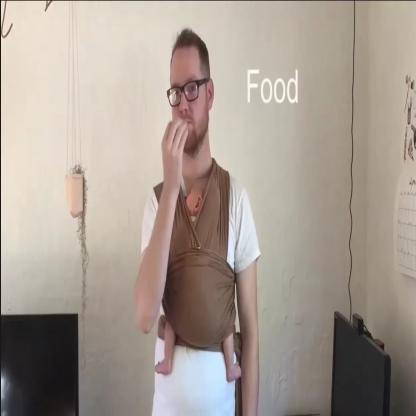Food: (141, 16, 220, 193)
